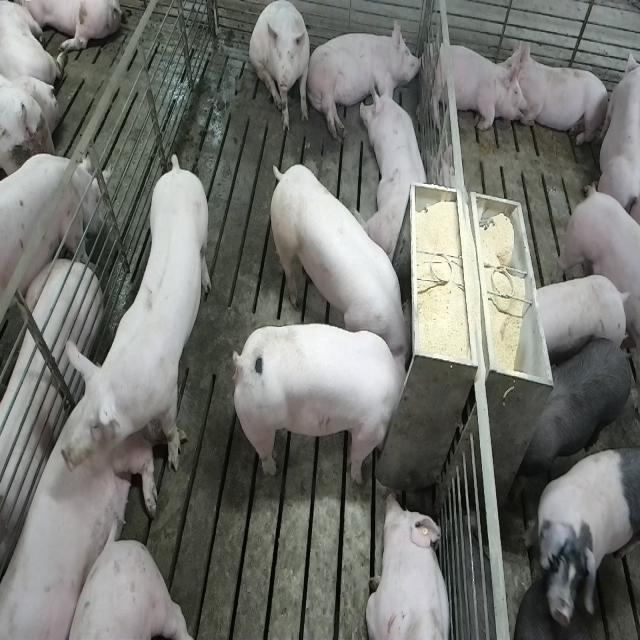Feeding: (265, 160, 412, 367), (226, 321, 408, 485)
Lateral_lying: (306, 16, 424, 142)
Sitting: (250, 1, 312, 134)
Standing: (58, 159, 212, 489), (0, 156, 102, 348), (514, 337, 638, 493), (530, 445, 636, 612), (554, 182, 637, 362), (532, 274, 630, 359)
Sternal_lying: (0, 369, 151, 634), (365, 490, 453, 640), (364, 72, 433, 260), (509, 42, 613, 150), (422, 36, 526, 138)
